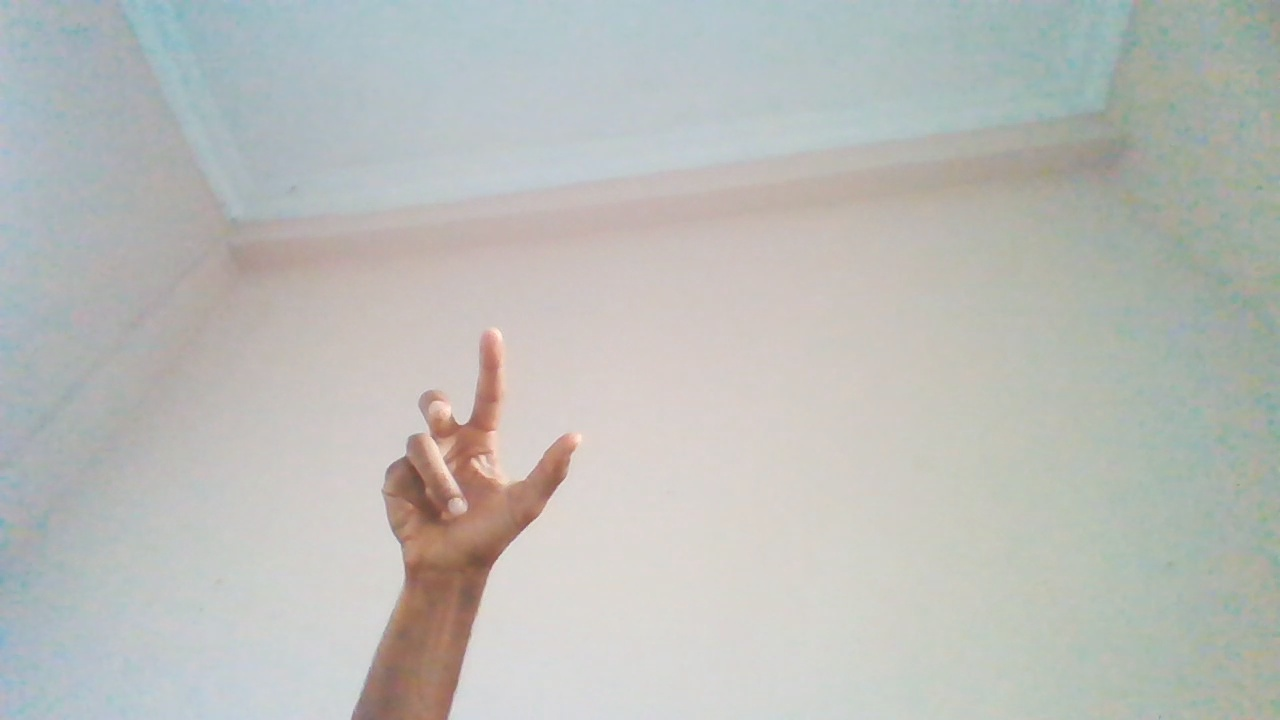hhe: (381, 327, 578, 661)
